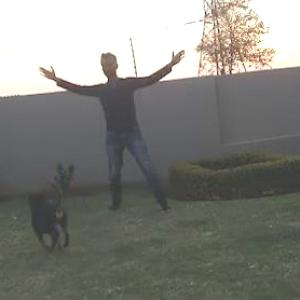takeoff: (51, 43, 205, 217)
